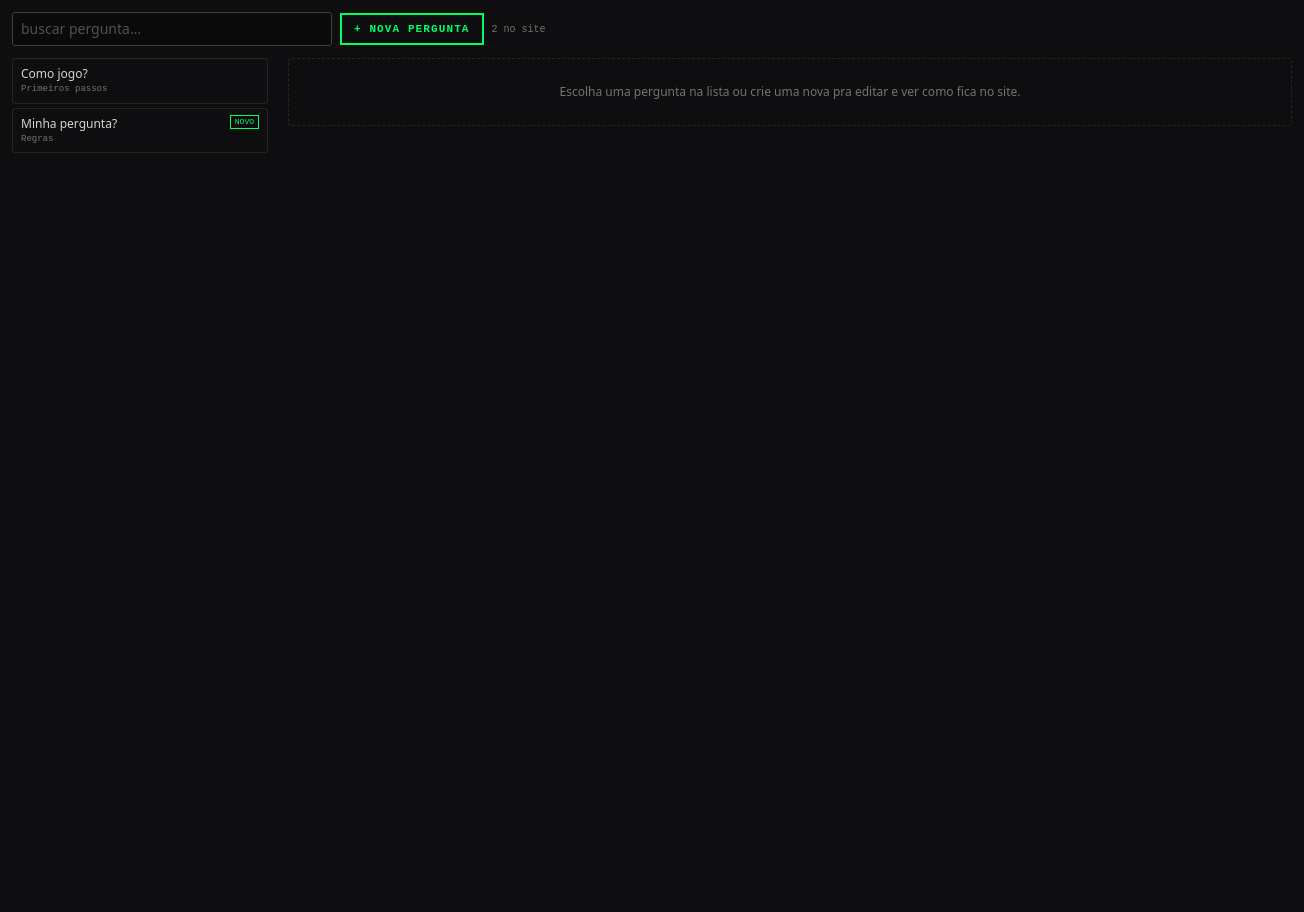
Test: EditorConteudo › a seção de um registro do guia é fixa
Click the text "Como jogo?": click(54, 74) [21,65,88,82]
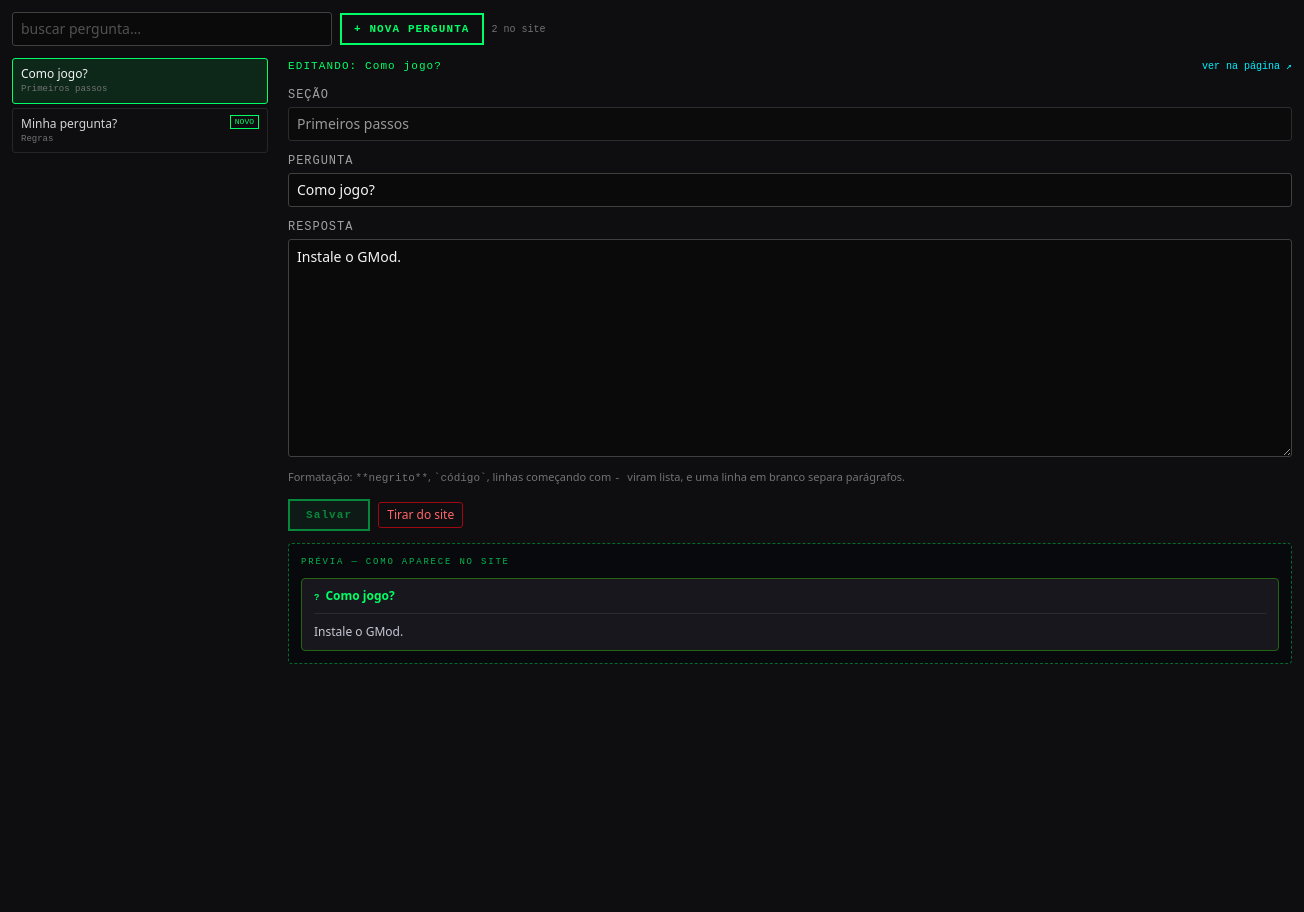
Now the field labelled "Seção" is disabled, box [288,106,1292,140]
